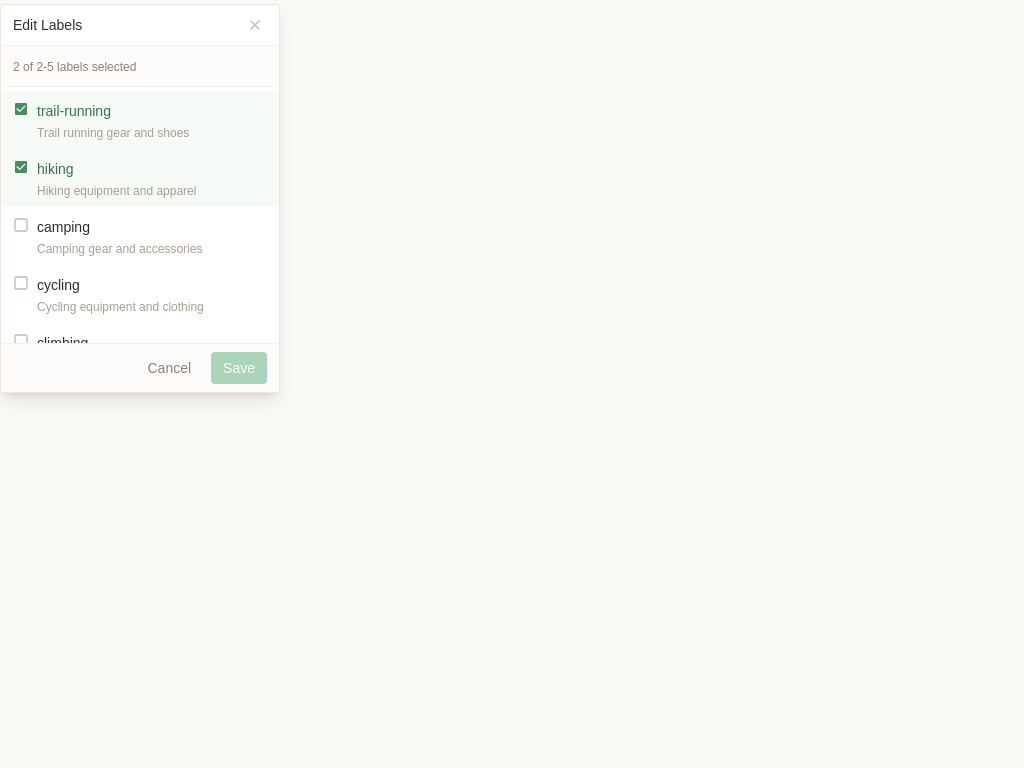
Test: LabelEditDropdown › validation prevents <2 labels › shows error message when deselecting below minimum
# Deselect one label to go below minimum
Click the checkbox "hiking": (55, 169) [1,149,279,207]
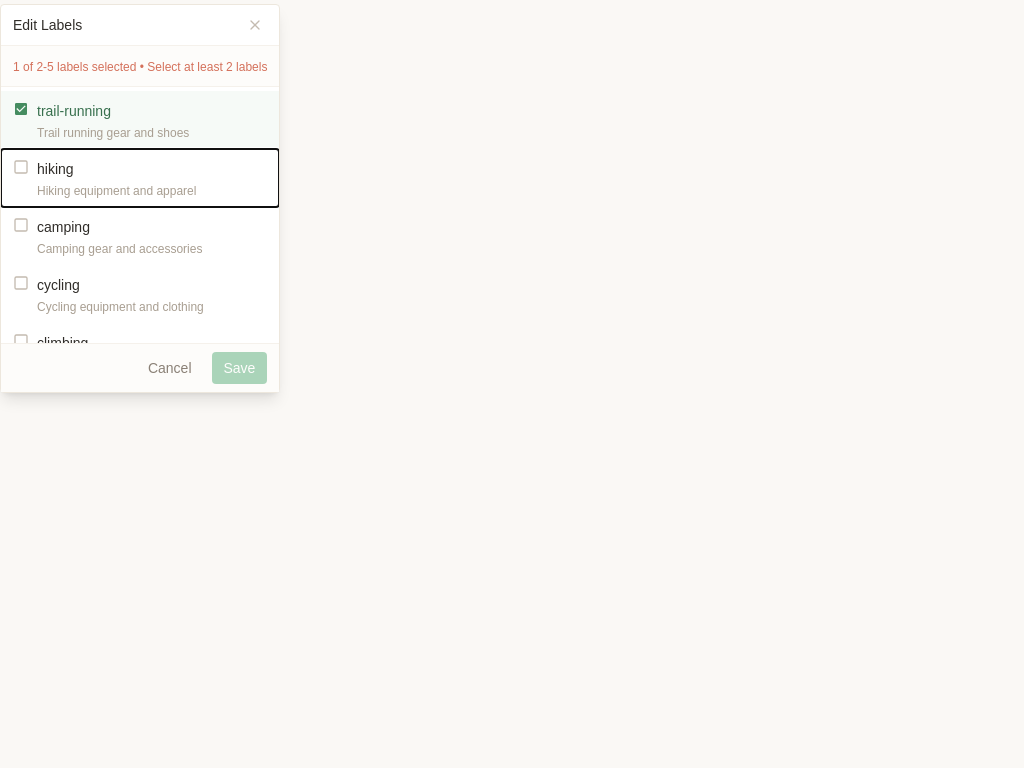
Check: the text "1 of 2-5 labels selected • Select at least 2 labels" is shown, box [13,60,267,74]
